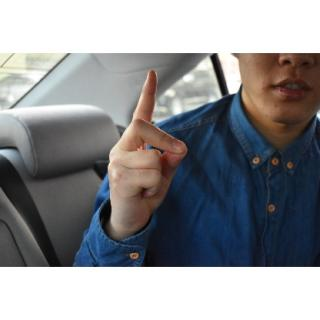TAA: (99, 67, 195, 236)
